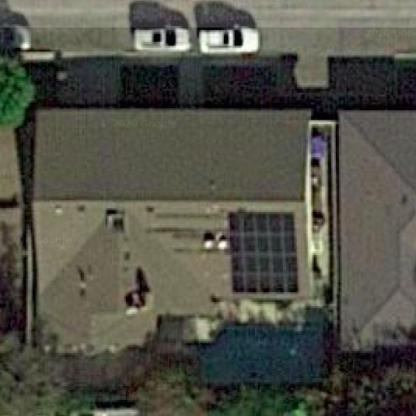car: (127, 16, 195, 59), (201, 21, 264, 62)
solar_panel: (224, 198, 301, 304)
swimming_pool: (194, 317, 339, 389)
